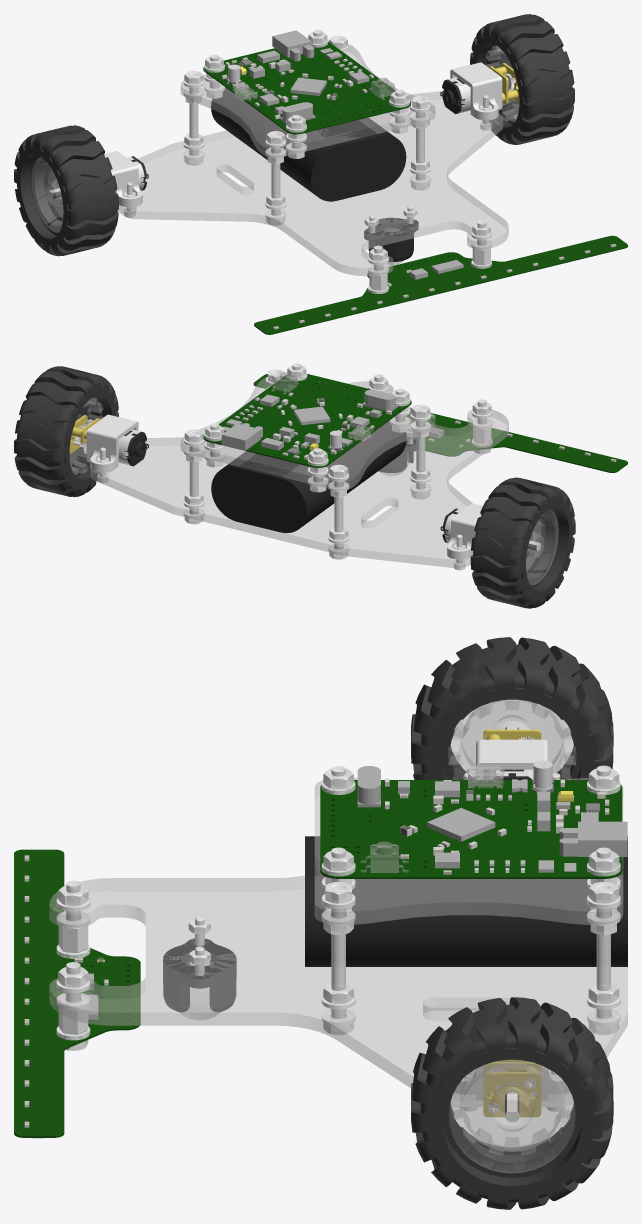
3 renders of one model, top to bottom at view 1: azimuth 30°, elevation 25°; view 2: azimuth 150°, elevation 25°; view 3: azimuth 270°, elevation 25°, orthographic. The views are drawn at different scales.
Visible parts, largest first — view 1: base, pololu-wheel-42x19mm (×2), Board_3, battery, Board, top, bracket (×2), AS 1427 - M3 x 30(2) (×3), pololu-ball-caster-with-0-500in-ball, micro-metal-gearmotor-standard; view 2: base, pololu-wheel-42x19mm (×2), Board_3, battery, top, Board, bracket (×2), AS 1427 - M3 x 30(2) (×3), micro-metal-gearmotor-standard (×2), pololu-ball-caster-with-0-500in-ball; view 3: pololu-wheel-42x19mm (×2), base, Board_3, battery, Board, top, pololu-ball-caster-with-0-500in-ball, micro-metal-gearmotor-standard (×2), AS 1427 - M3 x 30(2) (×2), bracket (×2).
Boxes of the visible parts, x1,y1,x2,y2 form: base: (118, 91, 508, 276); pololu-wheel-42x19mm (×2): (14, 14, 574, 256); Board_3: (203, 30, 410, 134); battery: (211, 87, 406, 201); Board: (254, 235, 627, 334); top: (180, 44, 435, 157); bracket (×2): (104, 62, 502, 207); AS 1427 - M3 x 30(2) (×3): (184, 73, 429, 225); pololu-ball-caster-with-0-500in-ball: (364, 217, 418, 265); micro-metal-gearmotor-standard: (440, 63, 519, 113); base: (90, 381, 508, 568); pololu-wheel-42x19mm (×2): (14, 366, 575, 608); Board_3: (203, 372, 411, 467); battery: (211, 421, 406, 533); top: (180, 377, 435, 490); Board: (253, 374, 627, 472); bracket (×2): (86, 414, 482, 559); AS 1427 - M3 x 30(2) (×3): (184, 407, 430, 559); micro-metal-gearmotor-standard (×2): (69, 415, 540, 551); pololu-ball-caster-with-0-500in-ball: (378, 437, 416, 476); pololu-wheel-42x19mm (×2): (411, 637, 613, 1209); base: (49, 875, 627, 1106); Board_3: (320, 760, 627, 878); battery: (305, 836, 627, 966); Board: (14, 849, 140, 1138); top: (314, 778, 623, 925); pololu-ball-caster-with-0-500in-ball: (163, 938, 236, 1020); micro-metal-gearmotor-standard (×2): (483, 726, 541, 1122); AS 1427 - M3 x 30(2) (×2): (323, 886, 619, 1035); bracket (×2): (454, 739, 569, 1100).
Bounding box in the file's own units: 19.57 × 4.87 × 12.73.
